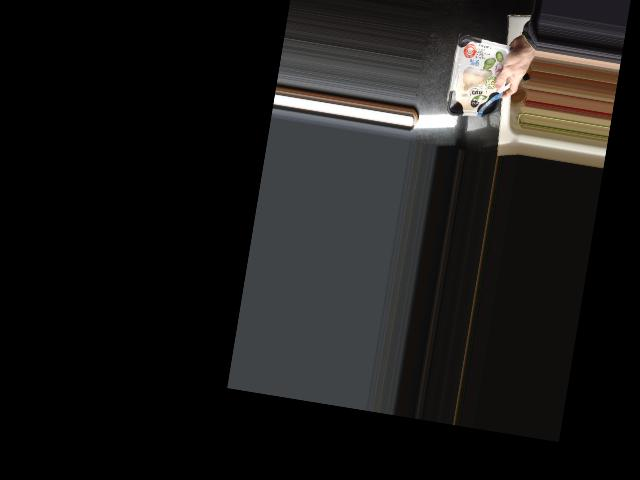cheese: (446, 34, 517, 122)
